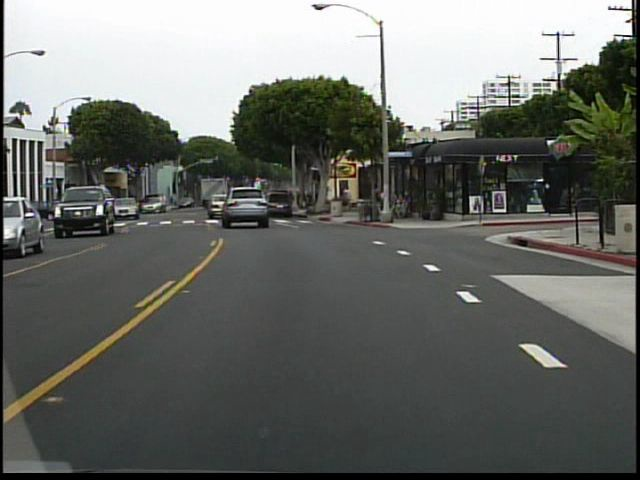person: (367, 185, 384, 223)
